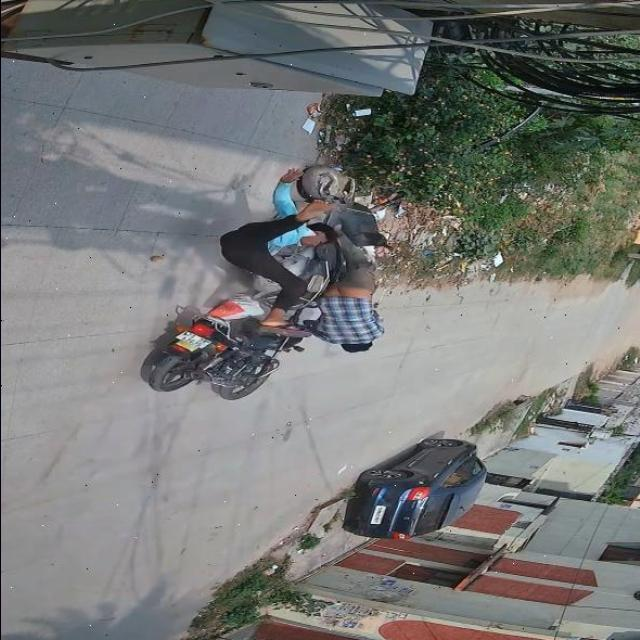accident: (141, 179, 391, 393)
